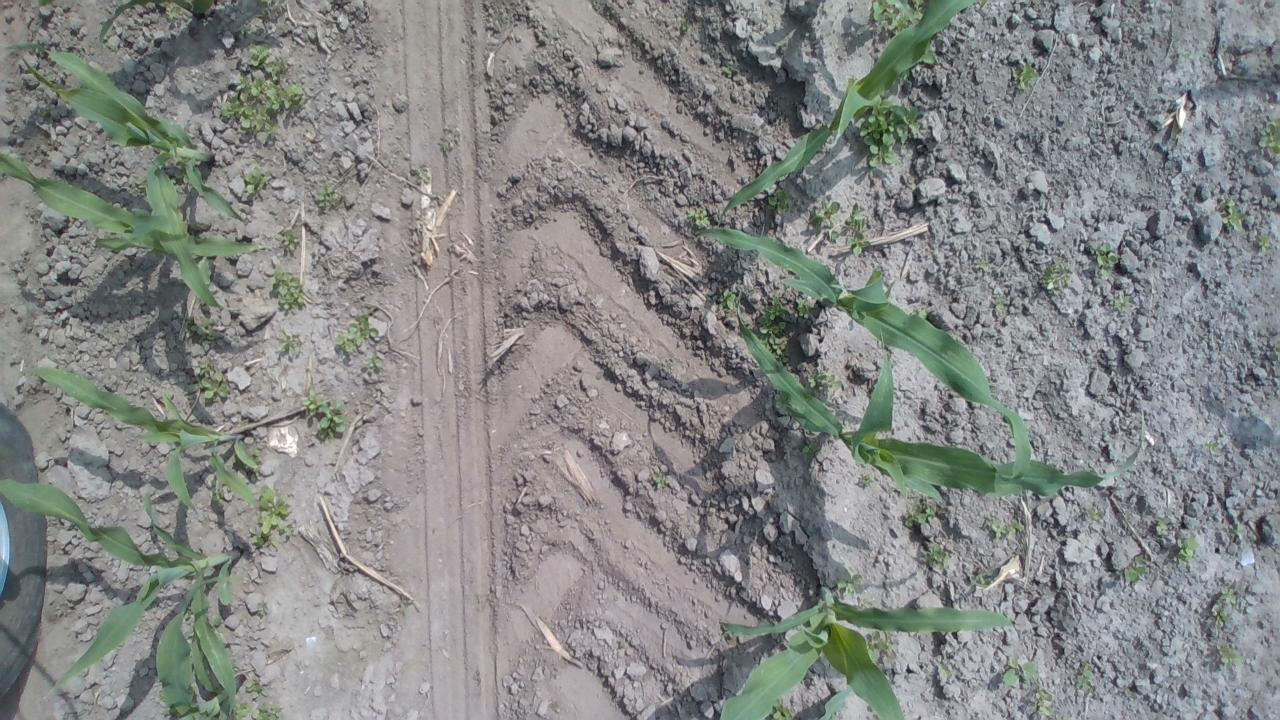Maize: (694, 224, 1032, 482), (734, 306, 1146, 507), (5, 40, 246, 310), (716, 0, 988, 217), (0, 476, 242, 692), (715, 586, 1017, 720), (21, 367, 260, 512), (0, 156, 268, 256), (153, 572, 247, 720), (98, 0, 214, 46), (796, 686, 855, 720)
Weeds: (220, 75, 304, 134), (859, 96, 921, 167), (250, 484, 294, 548), (301, 388, 347, 442), (335, 308, 378, 352), (870, 0, 924, 35), (268, 266, 305, 310), (756, 322, 790, 367), (196, 358, 228, 404), (247, 43, 284, 82), (844, 204, 870, 254), (811, 197, 840, 240), (1218, 196, 1248, 233), (1002, 658, 1038, 688), (864, 628, 894, 662), (1041, 258, 1071, 290), (756, 296, 788, 325), (806, 368, 842, 393), (1116, 554, 1148, 582), (1090, 242, 1116, 276), (1258, 116, 1280, 156), (1012, 61, 1039, 91), (984, 518, 1024, 538), (904, 502, 936, 526), (1216, 642, 1244, 668), (1029, 688, 1055, 716), (1174, 534, 1198, 564), (836, 566, 860, 596), (768, 187, 794, 214), (246, 166, 270, 195), (712, 288, 738, 312), (232, 450, 261, 471), (172, 157, 193, 186), (924, 544, 948, 569), (278, 328, 300, 354), (438, 125, 460, 151), (918, 38, 938, 66), (770, 698, 794, 720), (245, 674, 269, 696), (1076, 663, 1094, 690), (315, 185, 337, 207), (686, 208, 710, 228), (252, 703, 280, 720), (199, 316, 216, 344), (795, 297, 816, 319), (969, 569, 995, 586), (280, 229, 299, 251), (410, 164, 430, 184), (364, 352, 384, 371), (1212, 606, 1230, 626), (802, 440, 820, 459), (232, 701, 250, 720), (184, 314, 198, 338), (260, 0, 282, 15), (210, 616, 227, 635), (1112, 295, 1132, 311), (1219, 587, 1237, 604), (1256, 234, 1272, 253), (164, 1, 180, 19), (721, 626, 740, 640), (937, 662, 952, 679), (651, 472, 667, 487), (212, 488, 226, 505), (399, 598, 411, 616), (1086, 509, 1104, 521), (911, 308, 928, 320), (721, 64, 739, 75), (1206, 440, 1220, 454), (1232, 523, 1246, 537), (1156, 517, 1170, 531), (134, 178, 149, 191), (860, 474, 876, 486), (774, 393, 786, 408), (238, 23, 252, 35), (678, 18, 691, 30), (974, 258, 988, 269), (163, 709, 179, 718), (994, 298, 1005, 310), (41, 109, 51, 120), (256, 604, 266, 614), (186, 604, 193, 618), (1275, 341, 1280, 360), (1180, 51, 1190, 59), (34, 48, 40, 54), (189, 631, 195, 637)
